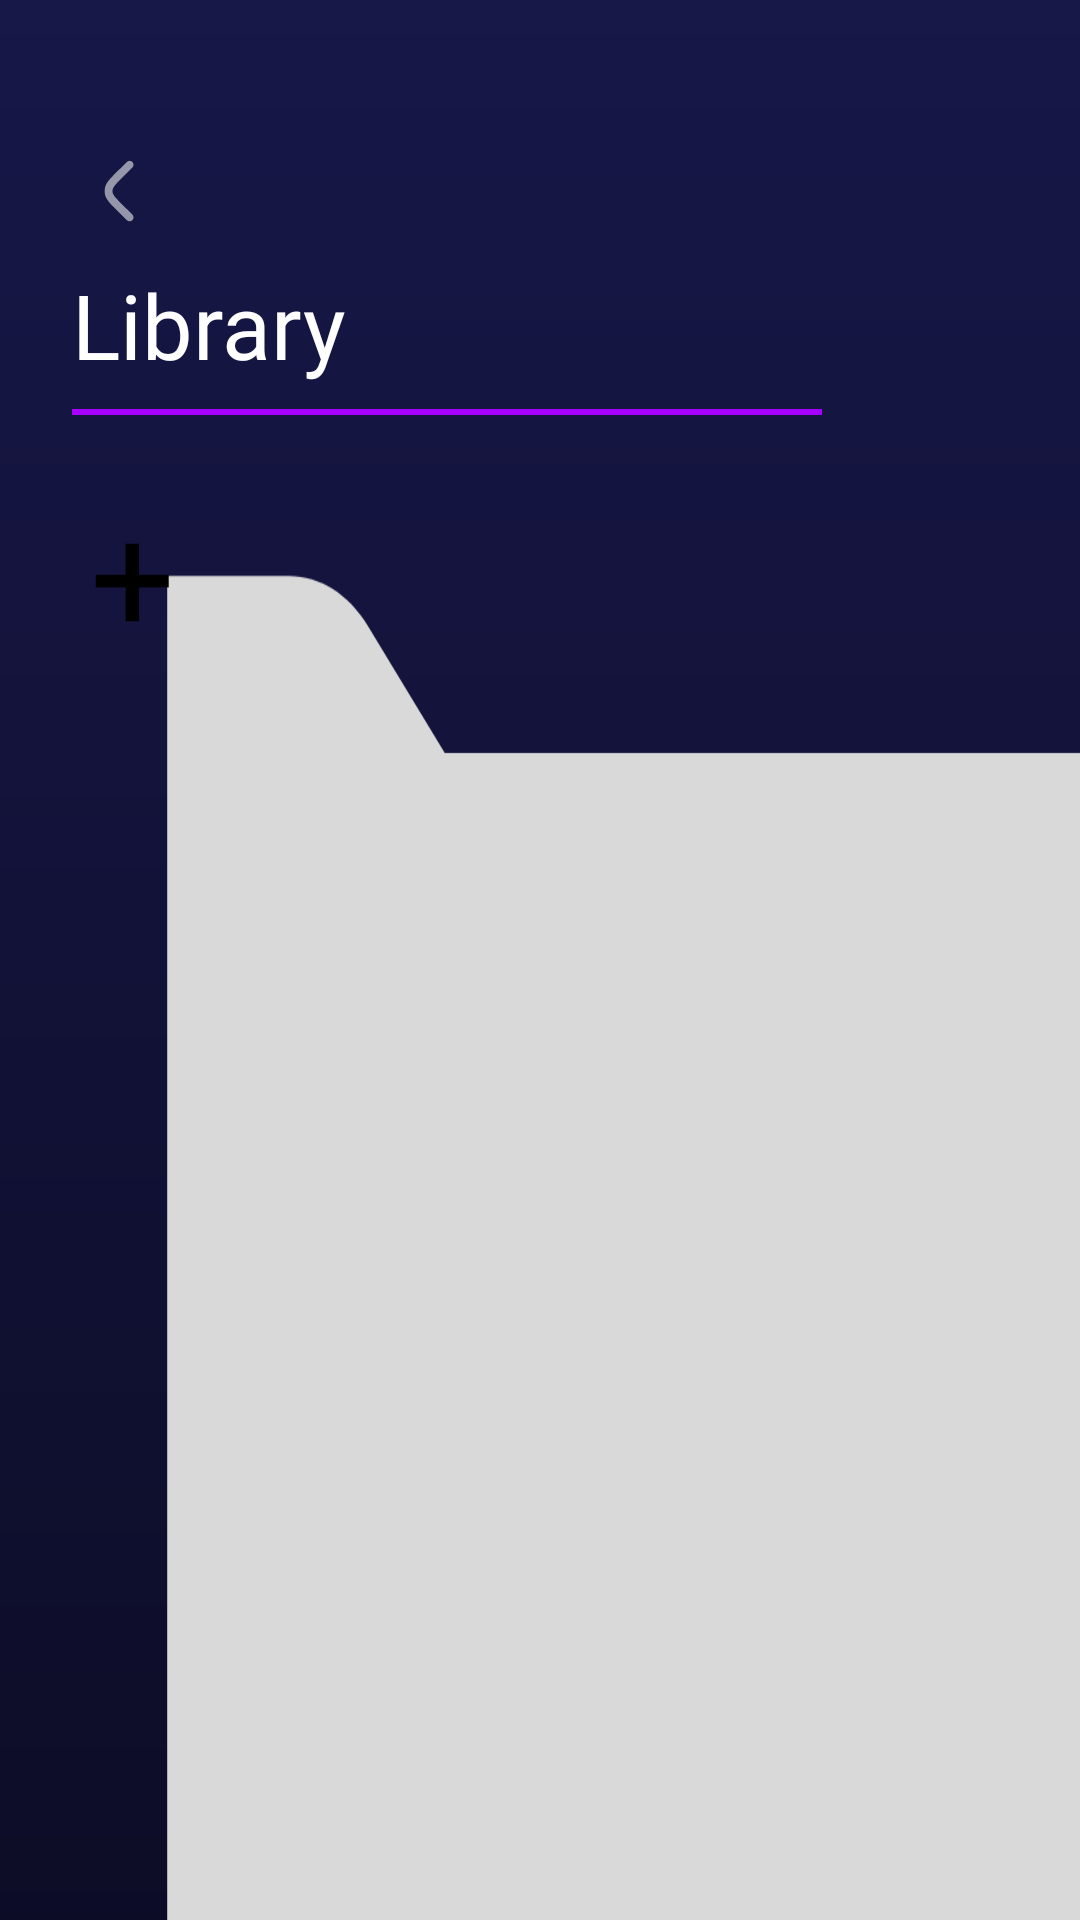

Screen size 1080×1920. Icon name, then its center in pixels as [x,y]:
back: [119,191]
